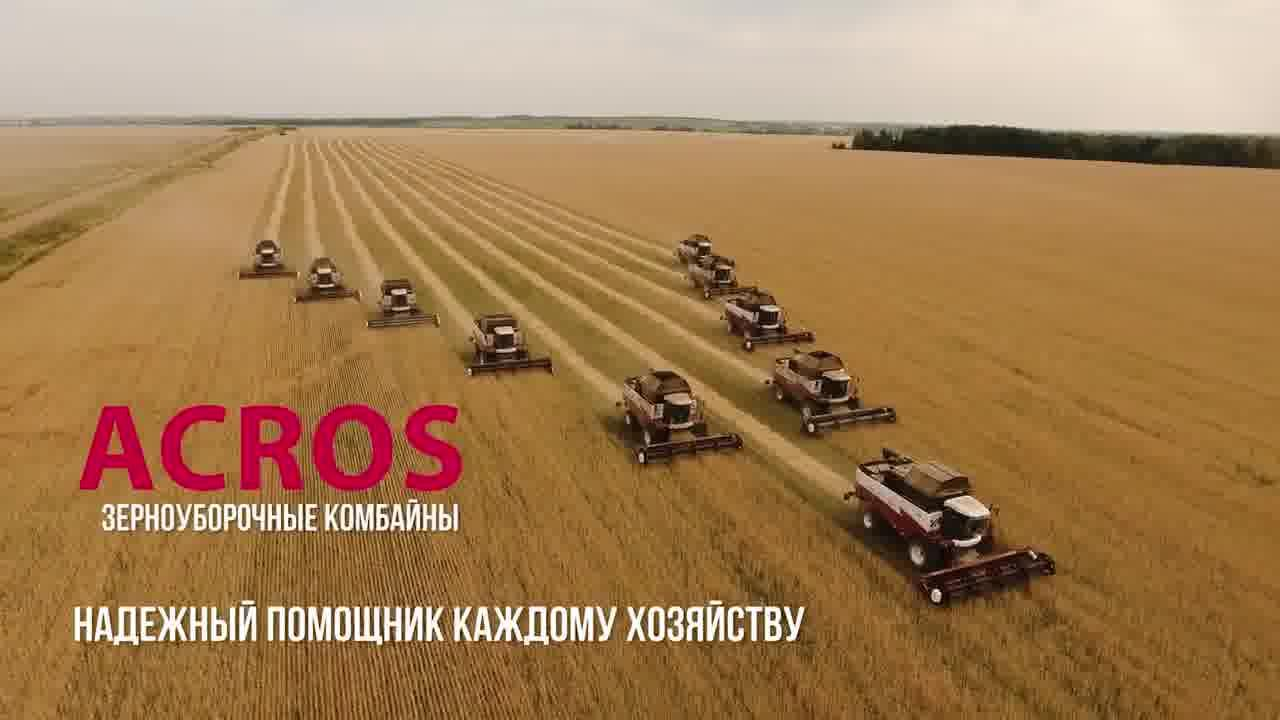combine harvester: (842, 437, 1060, 606), (612, 366, 748, 471), (767, 344, 899, 437), (461, 308, 560, 382), (722, 282, 821, 353), (360, 275, 444, 335), (289, 257, 367, 309), (682, 251, 757, 301), (234, 236, 305, 281), (673, 231, 714, 257)
